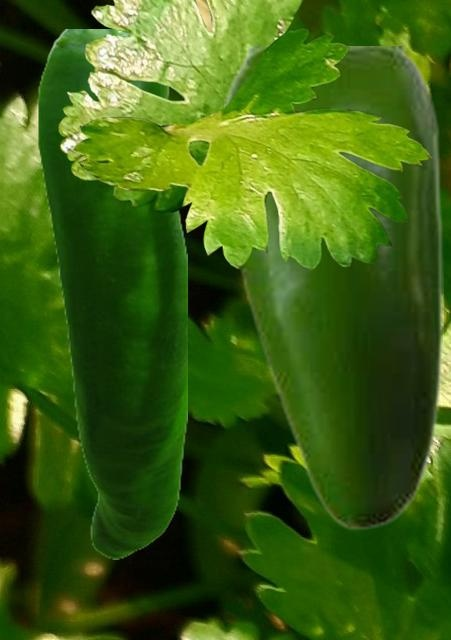green_chili: (224, 46, 442, 530), (37, 29, 186, 558)
